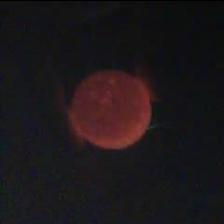infertile: (68, 68, 156, 150)
